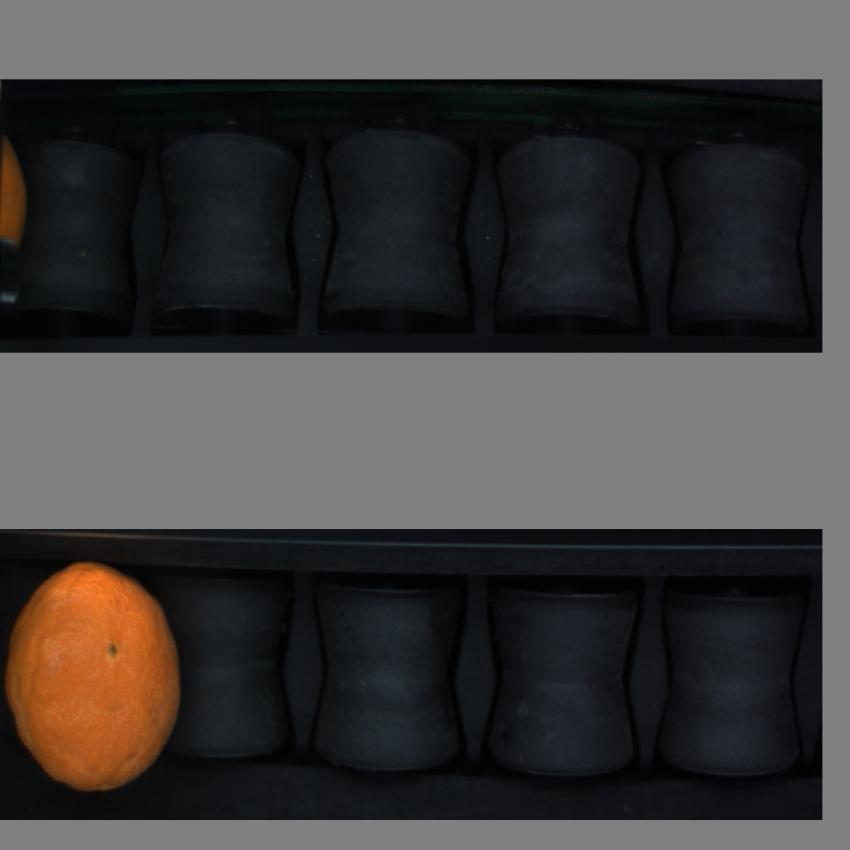Buen estado: (4, 558, 187, 800)
